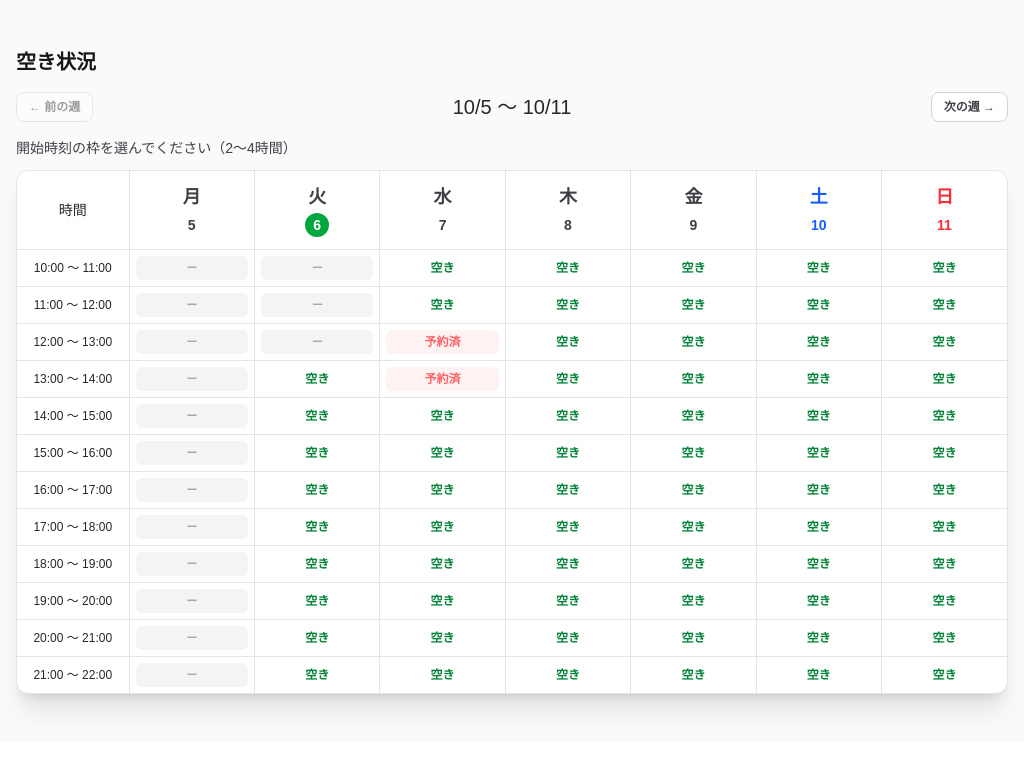
Test: 予約できる最終日（11/6）を含む週より先には進めない（B13）
Step 1. Click the button "次の週 →" → point(969, 107), box 931,92 -> 1008,122
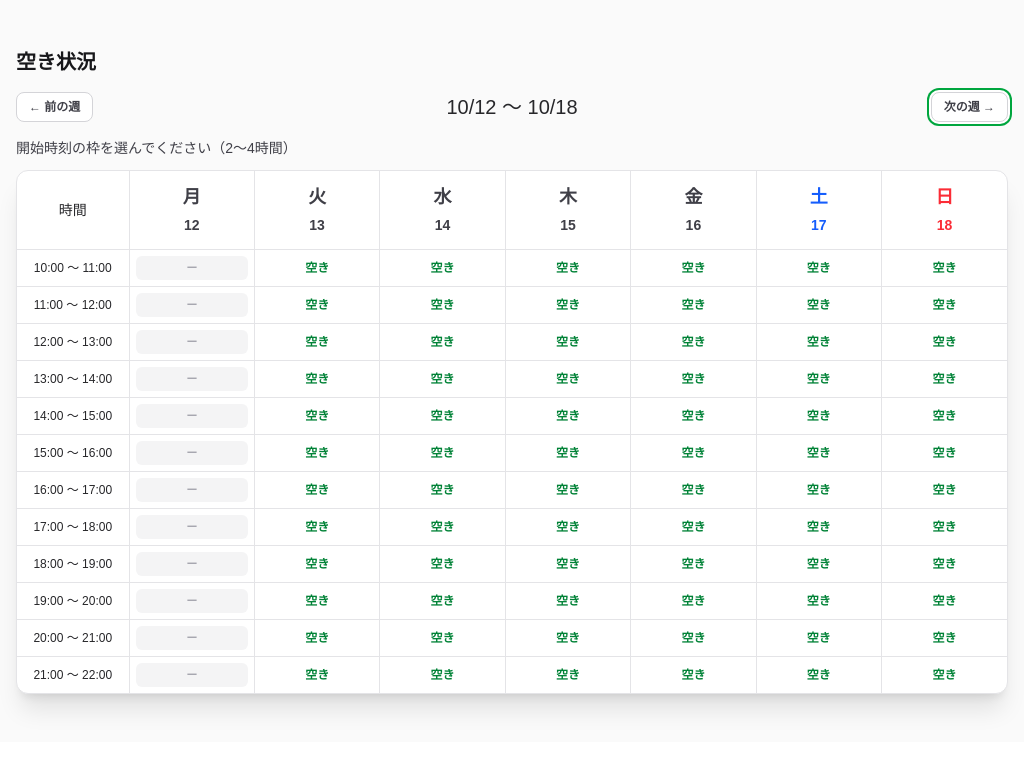
Check: the text "10/12 〜 10/18" is shown, box 446,93 -> 578,121
Step 2. Click the button "次の週 →" → point(969, 107), box 931,92 -> 1008,122
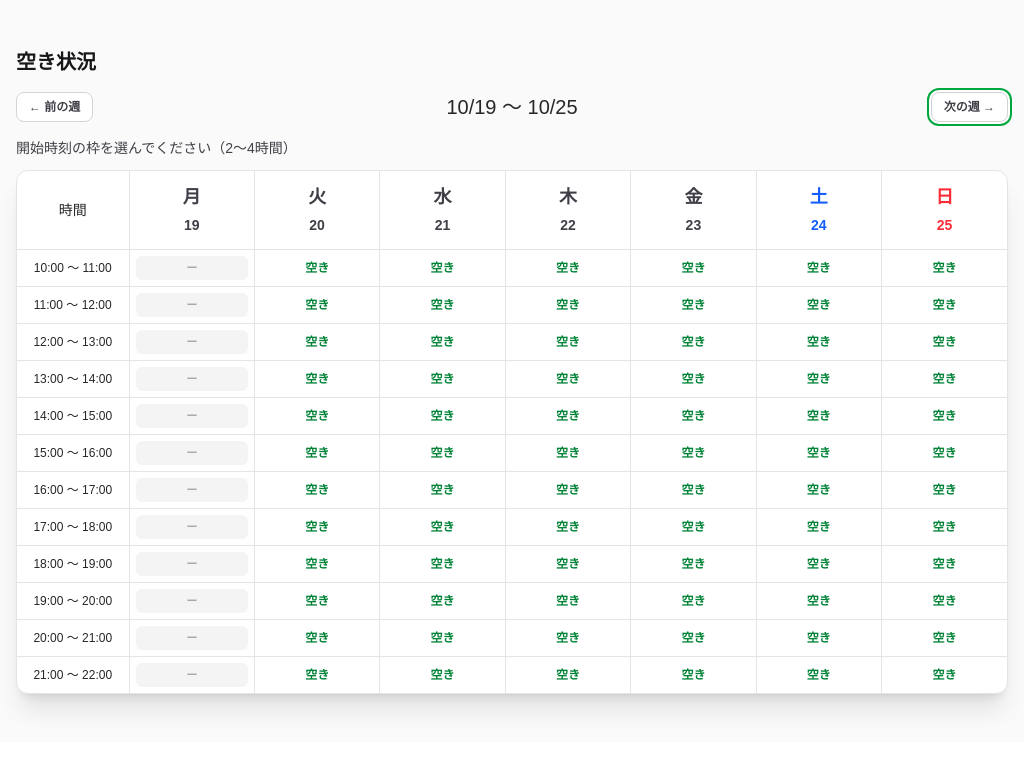
Check: the text "10/19 〜 10/25" is shown, box 446,93 -> 578,121
Step 3. Click the button "次の週 →" → point(969, 107), box 931,92 -> 1008,122
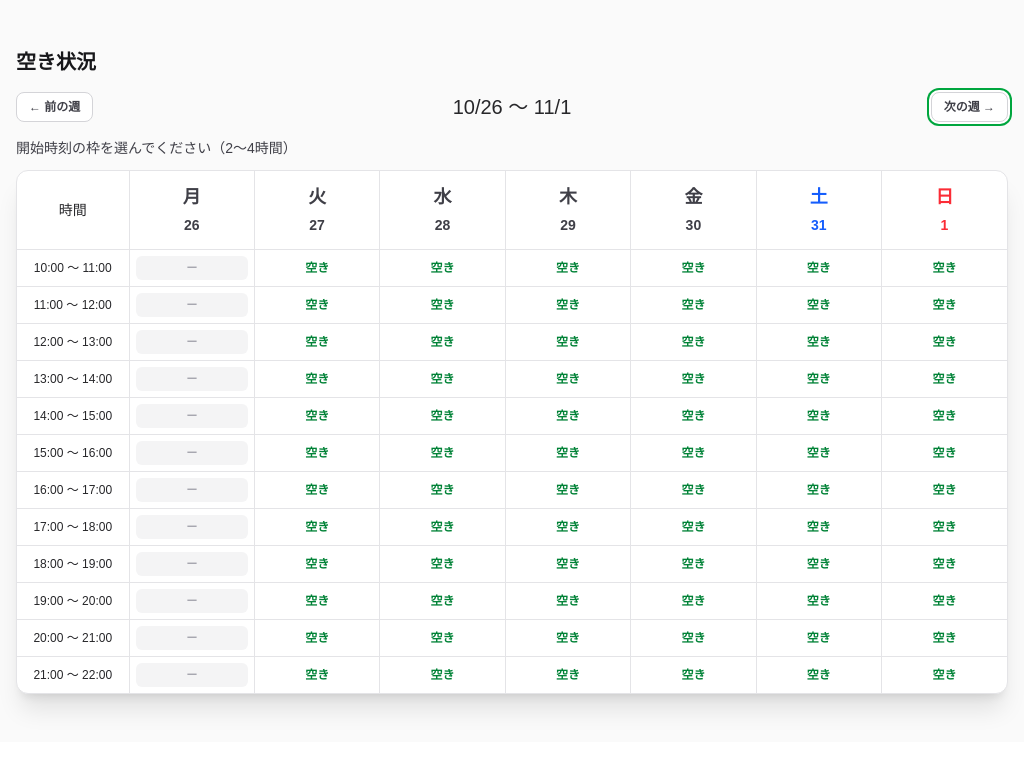
Check: the text "10/26 〜 11/1" is shown, box 453,93 -> 571,121
Step 4. Click the button "次の週 →" → point(969, 107), box 931,92 -> 1008,122
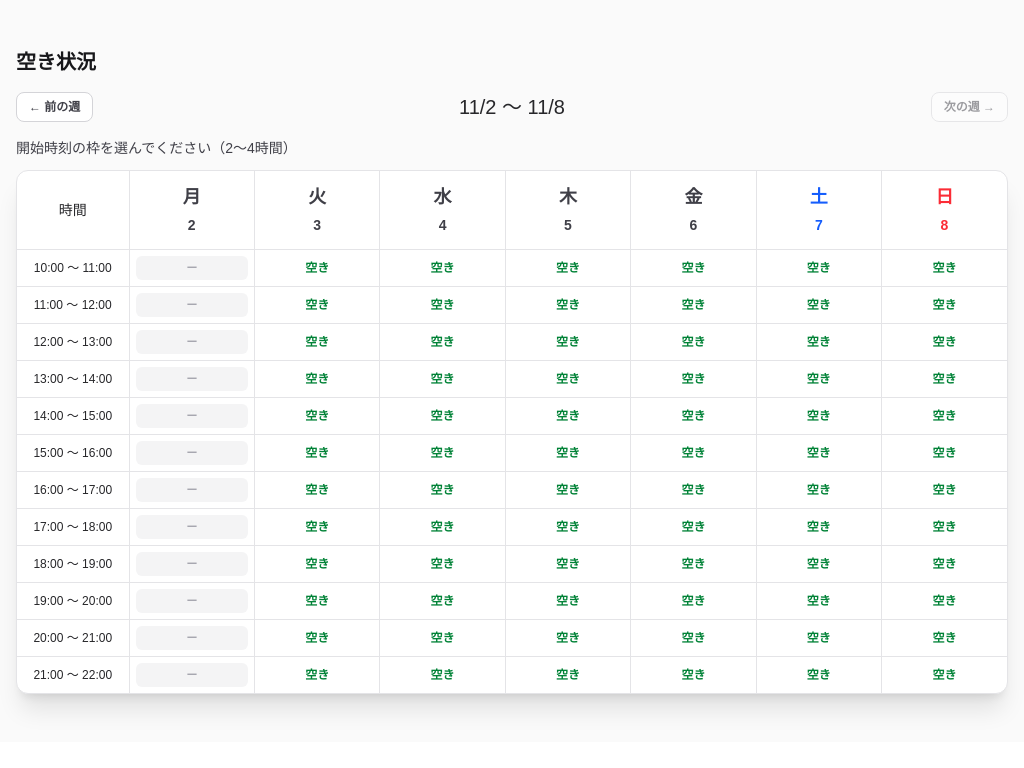
Check: the text "11/2 〜 11/8" is shown, box 459,93 -> 565,121
Check: the button "次の週 →" is disabled, box 931,92 -> 1008,122
